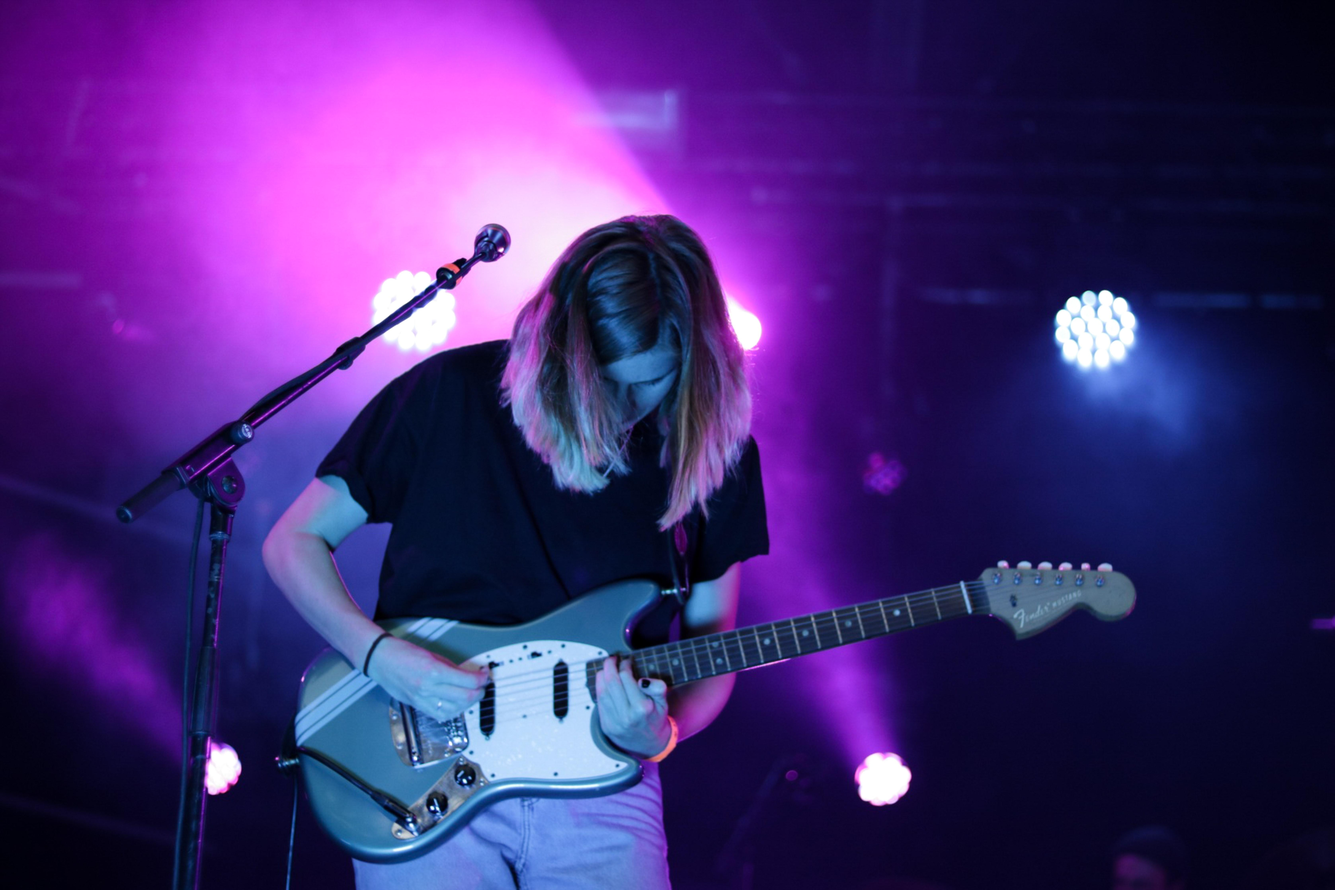acousticguitar: (293, 557, 1137, 863)
